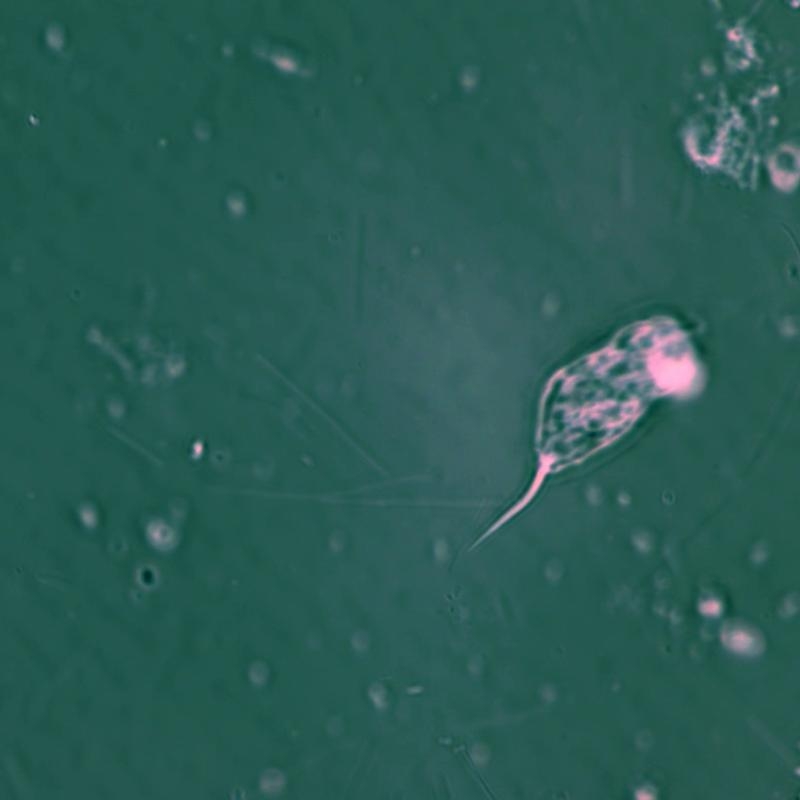depth:20: (462, 280, 726, 564)
